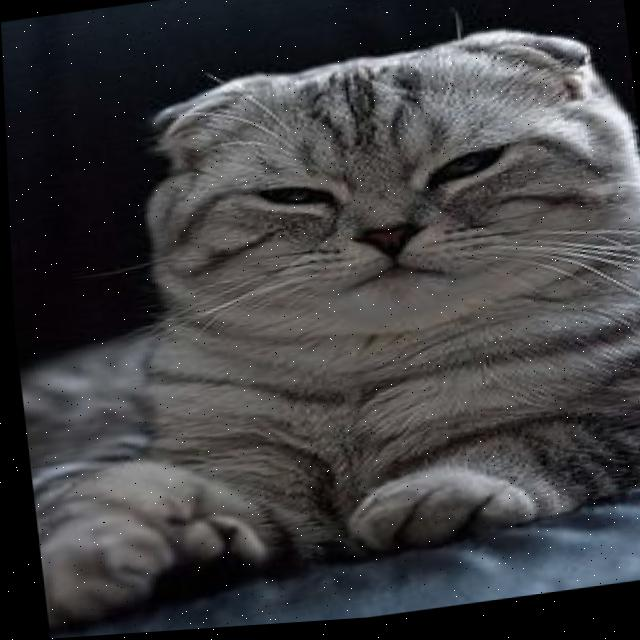Scottish Fold: (2, 12, 640, 637)
